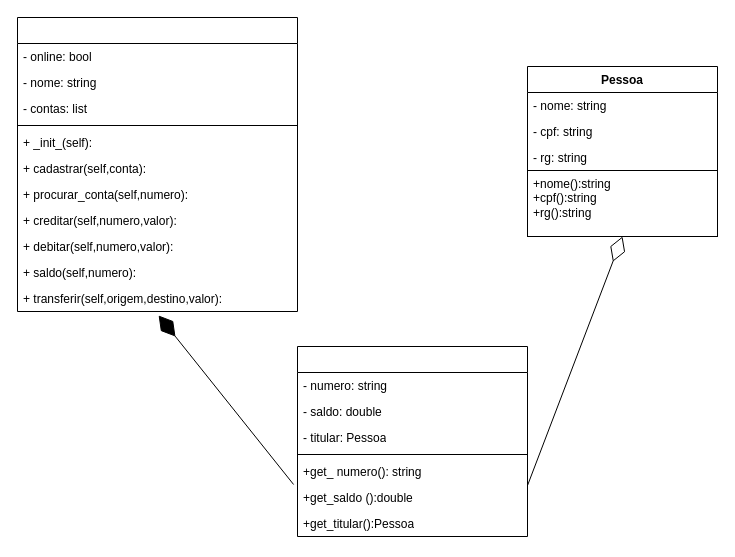
The diagram is 735 pixels wide and 557 high, and some of its shapes have lost their labels. The shapes that lost their labels are listed below. From the top down, each one's box as (x1, y1, x2, y2) in pixels, then its label:
(16, 16, 298, 312): Banco
(296, 346, 528, 536): Conta
